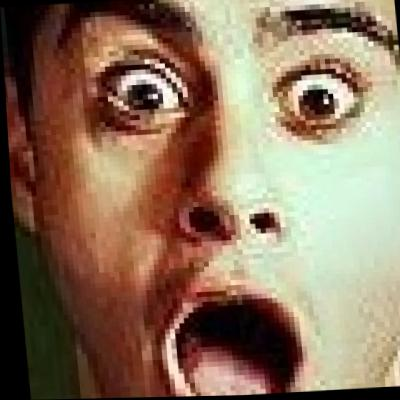surprise: (43, 0, 400, 399)
